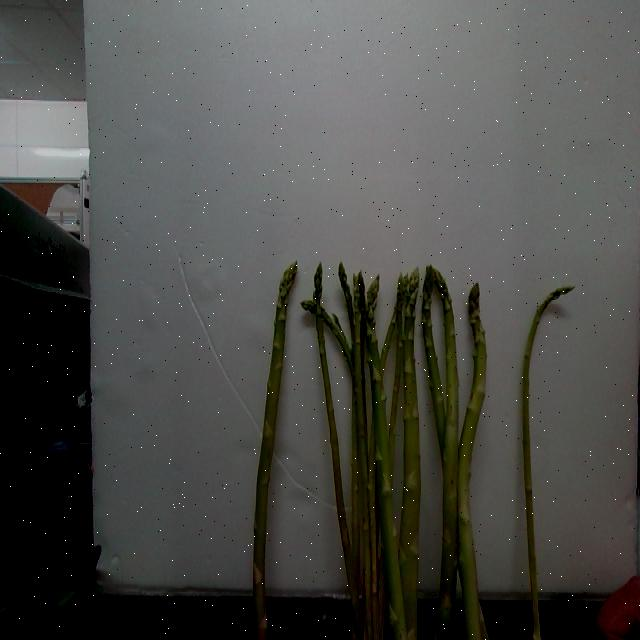aspargus: (519, 288, 574, 640), (253, 265, 299, 640)
